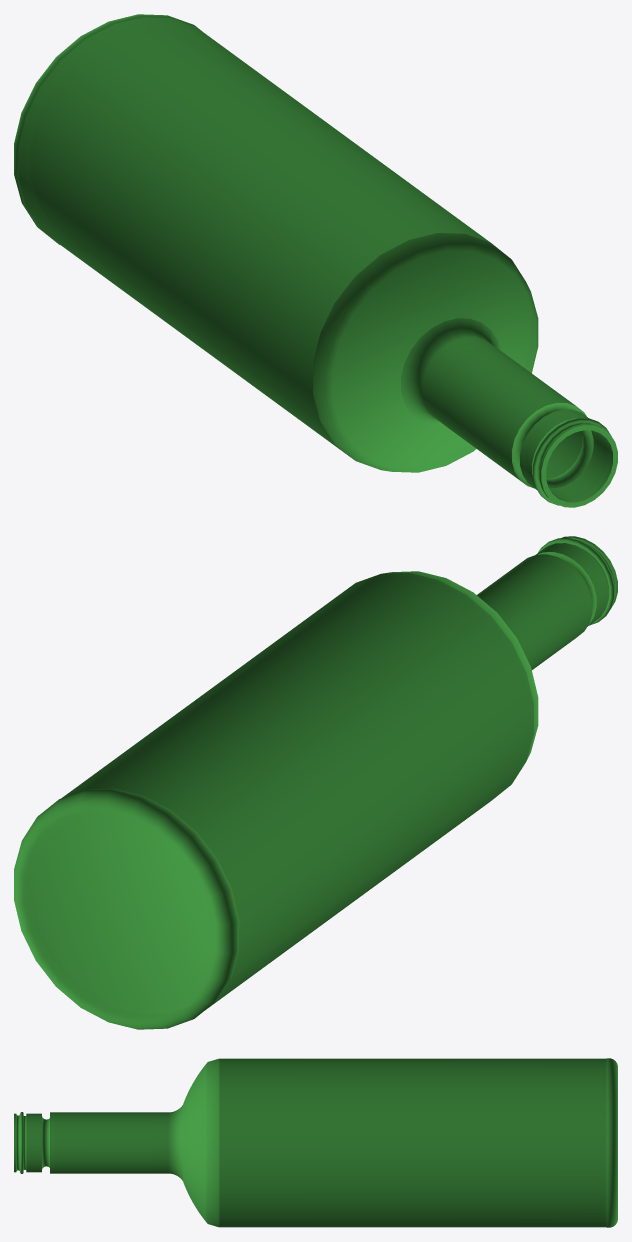
File: model_align.obj
3 renders of one model, top to bottom at view 1: azimuth 30°, elevation 25°; view 2: azimuth 150°, elevation 25°; view 3: azimuth 270°, elevation 25°, orthographic. The views are drawn at different scales.
Visible parts, largest first — view 1: mesh1_mesh1-geometry; view 2: mesh1_mesh1-geometry; view 3: mesh1_mesh1-geometry.
Boxes of the visible parts, bbox=[...] form: mesh1_mesh1-geometry: bbox=[14, 14, 617, 507]; mesh1_mesh1-geometry: bbox=[14, 536, 617, 1029]; mesh1_mesh1-geometry: bbox=[14, 1058, 617, 1227].
Size of the model in its own units: 0.0777 by 0.0777 by 0.279.
